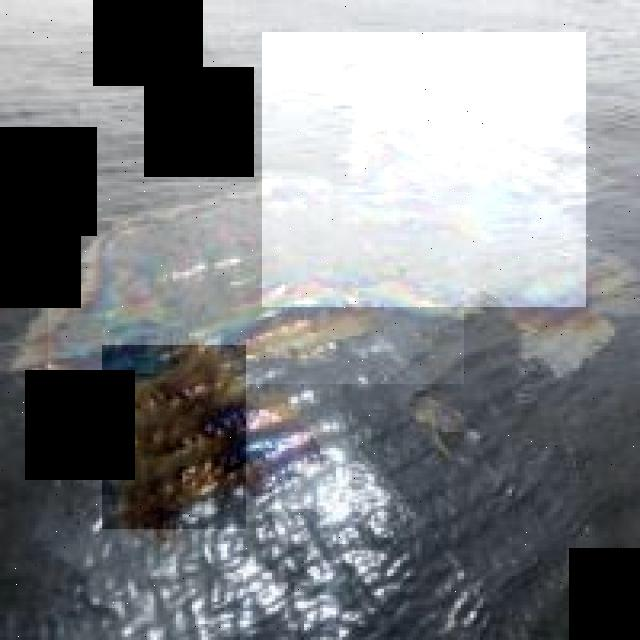oil spill: (262, 32, 586, 307), (48, 183, 464, 384), (103, 345, 246, 529)
